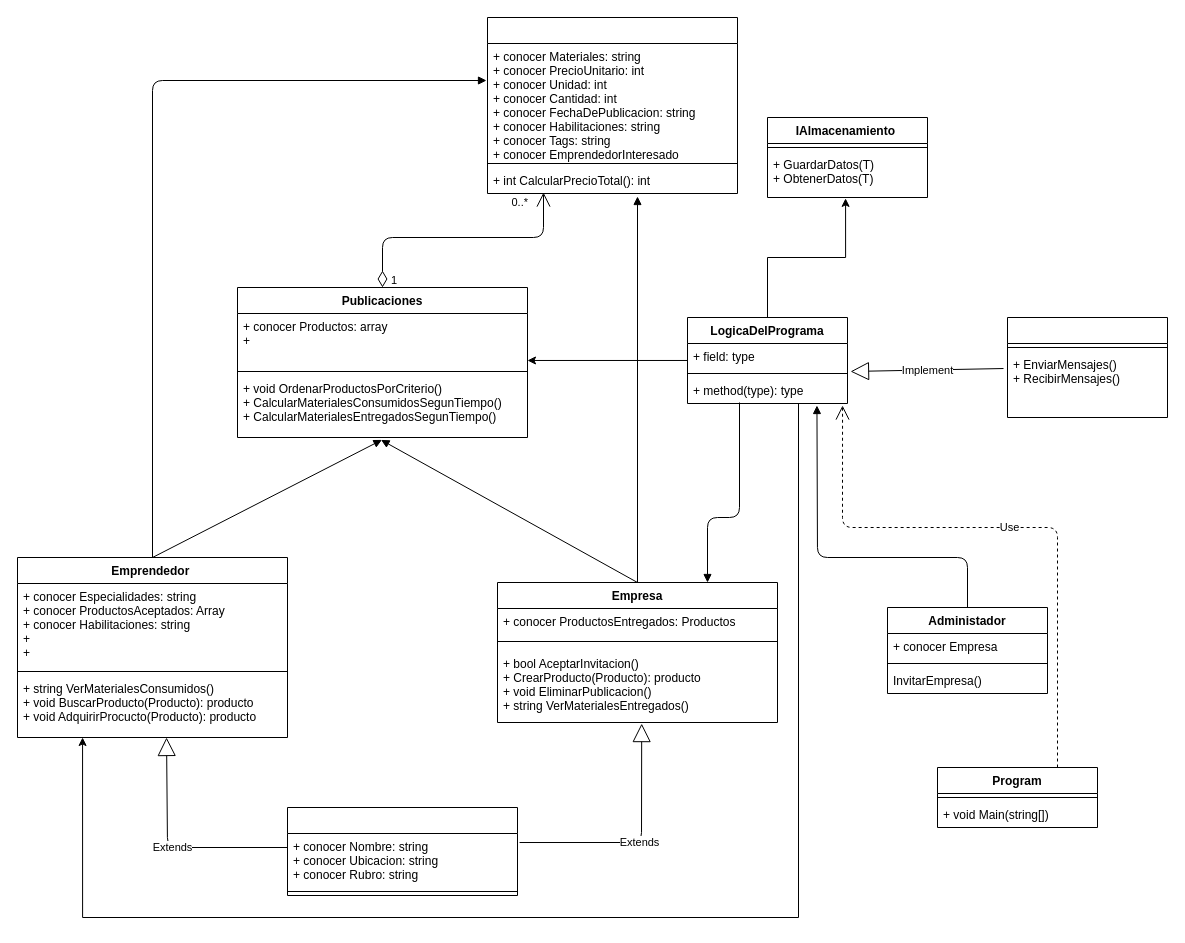
The diagram is 1185 pixels wide and 943 high, and some of its shapes have lost their labels. Each missing label, with the box of its shape:
ITalegram: (1006, 316, 1168, 418)
Producto: (486, 16, 738, 194)
Usuario: (286, 806, 518, 896)
